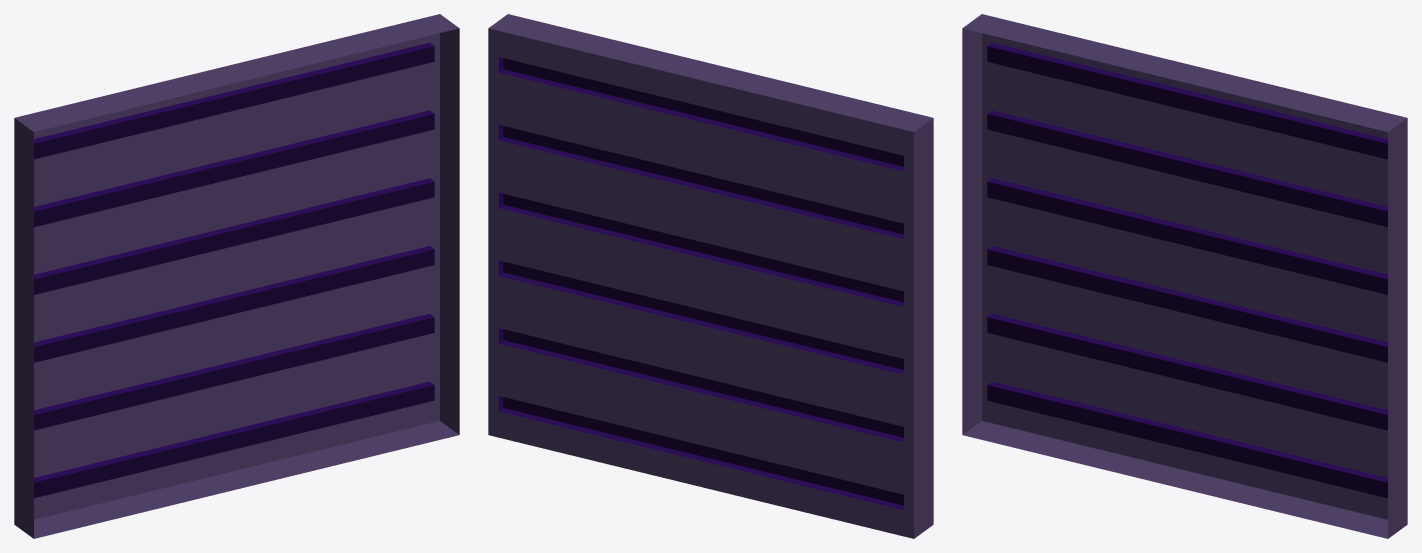
File: Vent.fbx
3 views of the same model, side by side, from view 1: azimuth 30°, elevation 25°; view 2: azimuth 150°, elevation 25°; view 3: azimuth 330°, elevation 25° (orthographic).
Parts seen in each view (by area): view 1: Cube.003; view 2: Cube.003; view 3: Cube.003.
Boxes of the visible parts, box(x1,y1,x2,y2) form: Cube.003: box(14, 14, 459, 538); Cube.003: box(488, 14, 933, 538); Cube.003: box(962, 14, 1407, 538).
Size of the model in its own units: 374 by 342 by 29.8.
